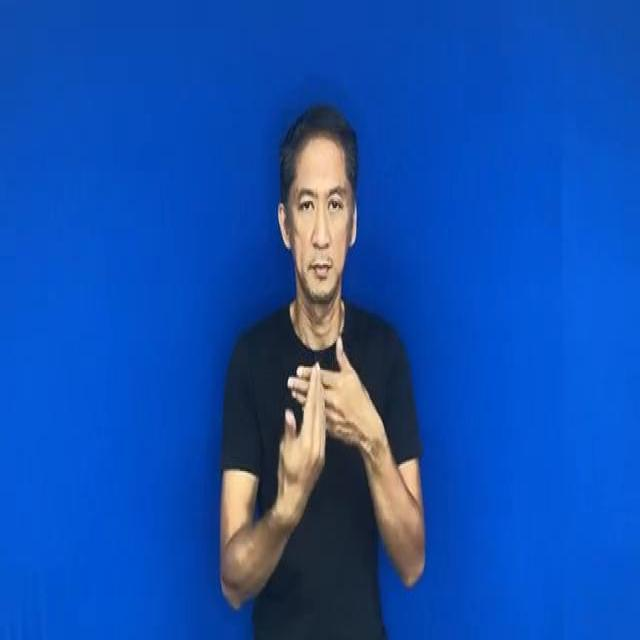bread: (264, 322, 386, 532)
